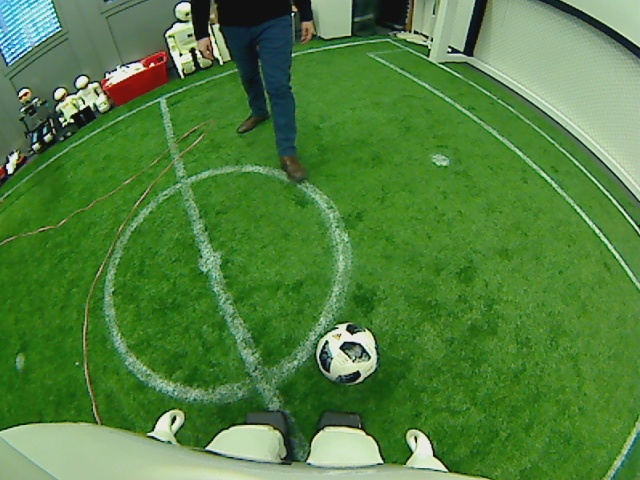ball: (313, 322, 378, 385)
